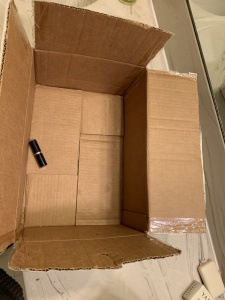innerbox: (18, 47, 149, 237)
outerbox: (1, 1, 206, 271)
product: (27, 138, 50, 170)
